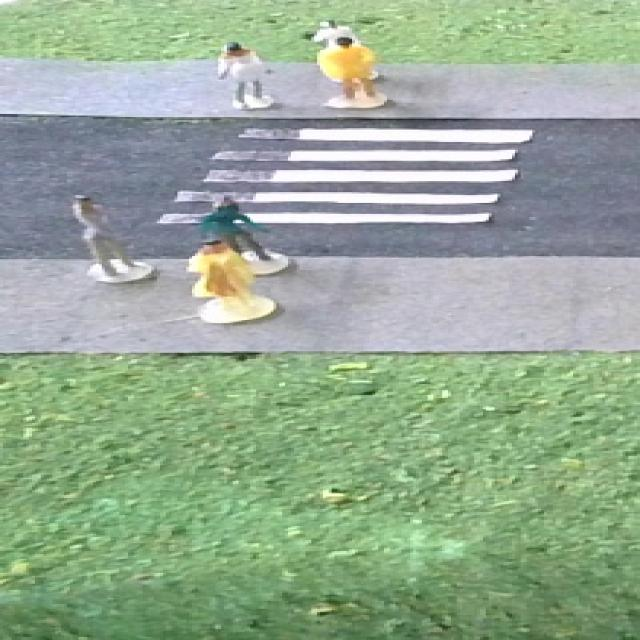person: (54, 185, 154, 287), (182, 237, 276, 326), (210, 39, 282, 112), (321, 37, 389, 110), (193, 196, 274, 241), (304, 18, 354, 38)
